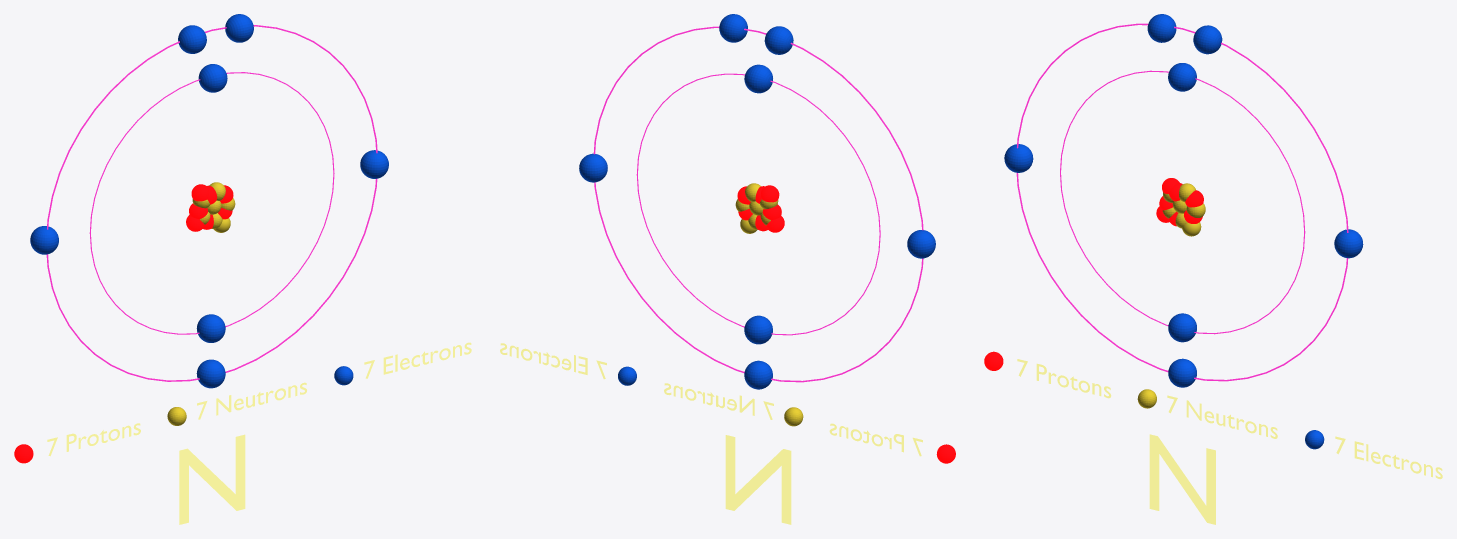
The model's file is nitrogen.glb.
The picture shows the model from 3 angles, left to right: view 1: azimuth 30°, elevation 25°; view 2: azimuth 150°, elevation 25°; view 3: azimuth 330°, elevation 25°; orthographic projection.
Visible parts, largest first — view 1: Text, BézierCircle.001, BézierCircle, Text.002, Text.003, Sphere.002, Sphere.001, Sphere.020, Sphere.022, Sphere.016, Sphere.015, Sphere.009 (+1 smaller); view 2: Text, BézierCircle.001, BézierCircle, Text.002, Text.003, Sphere.001, Sphere.009, Sphere.020, Sphere.015, Sphere.016, Sphere.002, Sphere.022 (+1 smaller); view 3: Text, BézierCircle.001, BézierCircle, Text.002, Text.003, Sphere.022, Sphere.015, Sphere.020, Sphere.001, Sphere.016, Sphere.009, Sphere.002 (+1 smaller).
Boxes of the visible parts, x1=… form: Text: x1=179, y1=434, x2=245, y2=524; BézierCircle.001: x1=46, y1=25, x2=377, y2=381; BézierCircle: x1=89, y1=72, x2=334, y2=334; Text.002: x1=197, y1=382, x2=306, y2=419; Text.003: x1=364, y1=342, x2=471, y2=378; Sphere.002: x1=198, y1=64, x2=227, y2=92; Sphere.001: x1=196, y1=314, x2=225, y2=342; Sphere.020: x1=196, y1=359, x2=225, y2=388; Sphere.022: x1=225, y1=14, x2=253, y2=42; Sphere.016: x1=30, y1=226, x2=58, y2=254; Sphere.015: x1=178, y1=25, x2=206, y2=53; Sphere.009: x1=360, y1=150, x2=388, y2=178; Text: x1=725, y1=435, x2=791, y2=524; BézierCircle.001: x1=593, y1=26, x2=923, y2=382; BézierCircle: x1=636, y1=73, x2=880, y2=335; Text.002: x1=664, y1=383, x2=773, y2=419; Text.003: x1=500, y1=343, x2=606, y2=379; Sphere.001: x1=744, y1=315, x2=772, y2=344; Sphere.009: x1=579, y1=153, x2=607, y2=182; Sphere.020: x1=744, y1=360, x2=772, y2=389; Sphere.015: x1=764, y1=26, x2=793, y2=54; Sphere.016: x1=907, y1=230, x2=935, y2=258; Sphere.002: x1=744, y1=64, x2=772, y2=93; Sphere.022: x1=719, y1=14, x2=747, y2=42; Text: x1=1149, y1=434, x2=1215, y2=524; BézierCircle.001: x1=1016, y1=23, x2=1348, y2=381; BézierCircle: x1=1060, y1=70, x2=1305, y2=334; Text.002: x1=1167, y1=395, x2=1277, y2=438; Text.003: x1=1335, y1=436, x2=1442, y2=479; Sphere.022: x1=1193, y1=25, x2=1222, y2=54; Sphere.015: x1=1147, y1=14, x2=1176, y2=42; Sphere.020: x1=1168, y1=358, x2=1196, y2=387; Sphere.001: x1=1168, y1=313, x2=1196, y2=342; Sphere.016: x1=1004, y1=144, x2=1033, y2=172; Sphere.009: x1=1334, y1=229, x2=1363, y2=258; Sphere.002: x1=1168, y1=63, x2=1196, y2=91.
Size of the model in its own units: 4.37 by 4.55 by 0.2925.
